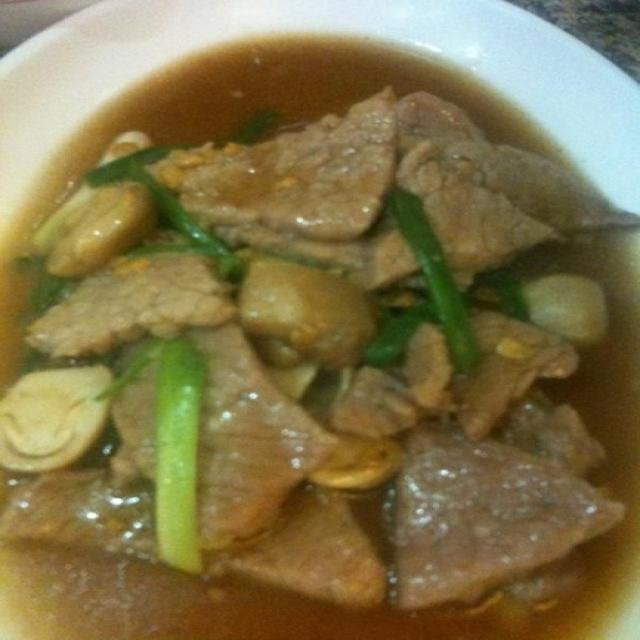牛肉菜式: (15, 50, 615, 618)
